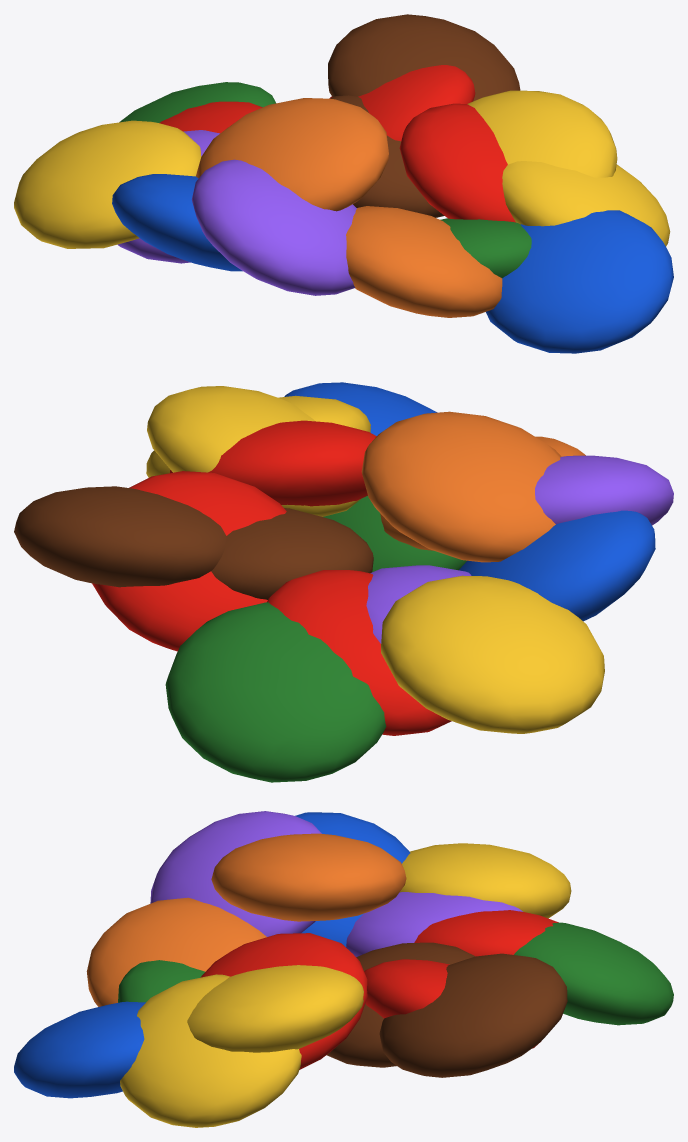
Rendered from linsen.glb.
3 views of the same model, one above another, from view 1: azimuth 30°, elevation 25°; view 2: azimuth 150°, elevation 25°; view 3: azimuth 270°, elevation 25° (orthographic). The views are drawn at different scales.
Parts seen in each view (by area): view 1: p3, p4, p8, p5, p12, p6, p7, p1, p15, p10, p0, p9 (+4 smaller); view 2: p2, p8, p5, p6, p0, p10, p7, p14, p1, p13, p4, p9 (+4 smaller); view 3: p6, p15, p5, p1, p2, p12, p3, p8, p4, p7, p11, p14 (+4 smaller).
Part boxes in pixels (box(x1,y1,x2,y2)): p3: box(486, 210, 673, 353); p4: box(191, 159, 356, 295); p8: box(14, 120, 201, 248); p5: box(196, 98, 388, 211); p12: box(346, 206, 502, 317); p6: box(328, 14, 520, 101); p7: box(399, 103, 515, 222); p1: box(467, 90, 617, 177); p15: box(502, 161, 670, 246); p10: box(112, 174, 242, 271); p0: box(329, 65, 475, 141); p9: box(440, 218, 531, 278); p2: box(165, 602, 386, 782); p8: box(381, 575, 604, 733); p5: box(361, 411, 561, 562); p6: box(14, 486, 226, 587); p0: box(92, 471, 286, 651); p10: box(459, 510, 655, 621); p7: box(170, 420, 376, 506); p14: box(267, 570, 451, 735); p1: box(147, 386, 360, 516); p13: box(211, 508, 373, 599); p4: box(535, 455, 673, 525); p9: box(323, 495, 466, 572); p6: box(379, 953, 567, 1077); p15: box(120, 974, 301, 1127); p5: box(211, 833, 406, 921); p1: box(187, 965, 363, 1052); p2: box(514, 922, 673, 1025); p12: box(86, 897, 266, 1006); p3: box(14, 1001, 145, 1098); p8: box(400, 843, 571, 918); p4: box(150, 811, 321, 936); p7: box(200, 933, 367, 1069); p11: box(346, 892, 522, 956); p14: box(414, 910, 558, 956).
Size of the model in its own units: 0.0379 by 0.013 by 0.044.
